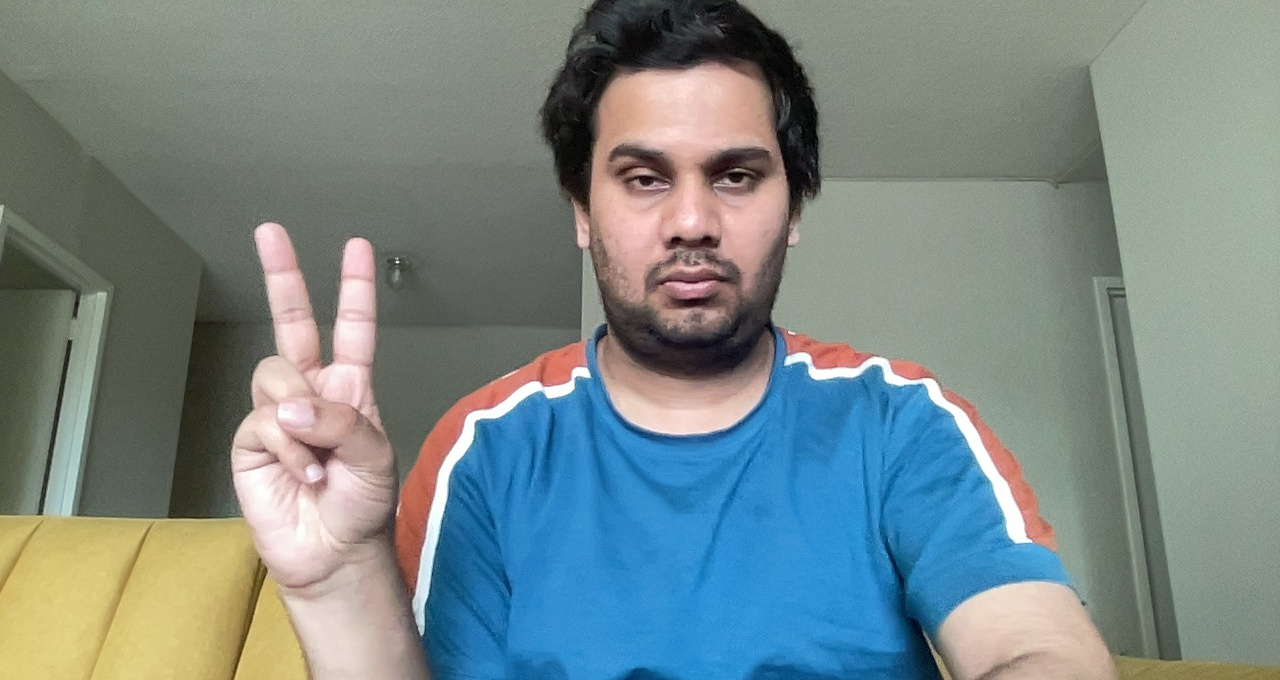peace sign: (218, 216, 409, 584)
